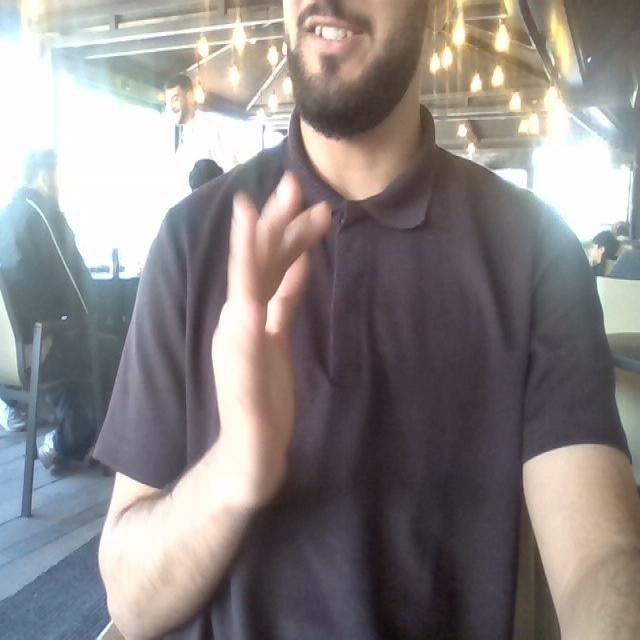Hand: (212, 174, 330, 507)
